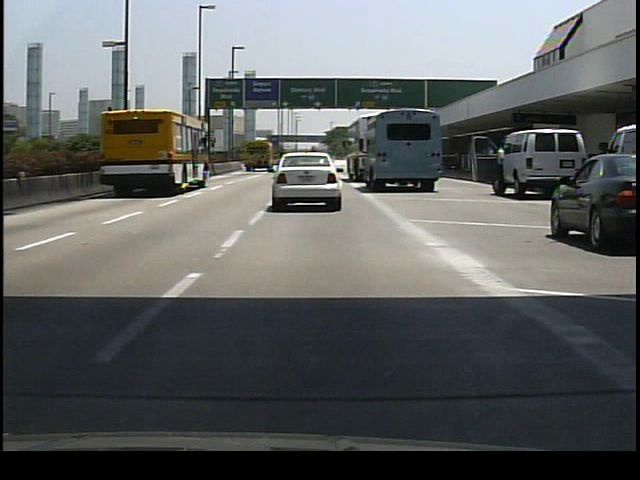person: (491, 138, 509, 206)
